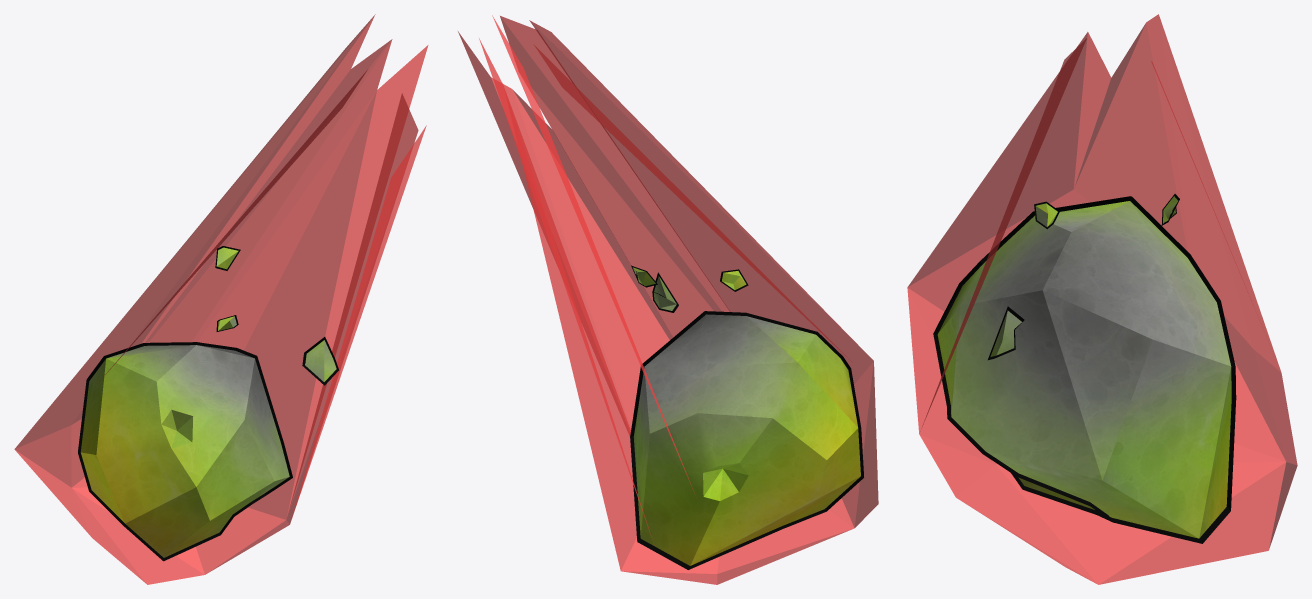
The model's file is meteorite.glb.
3 renders of one model, left to right at view 1: azimuth 30°, elevation 25°; view 2: azimuth 150°, elevation 25°; view 3: azimuth 270°, elevation 25°, orthographic. The views are drawn at different scales.
Parts seen in each view (by area): view 1: Plane.001_0, Cube.005_14, Cube_11, Cube.004_13, Cube.008_12; view 2: Plane.001_0, Cube.005_14, Cube_11, Cube.004_13; view 3: Cube.005_14, Plane.001_0, Cube_11, Cube.004_13, Cube.008_12.
Part boxes in pixels (box(x1,y1,x2,y2)): Plane.001_0: box(14, 14, 428, 584); Cube.005_14: box(80, 345, 289, 557); Cube_11: box(78, 342, 292, 561); Cube.004_13: box(216, 247, 336, 381); Cube.008_12: box(215, 246, 338, 385); Plane.001_0: box(458, 15, 878, 584); Cube.005_14: box(633, 314, 860, 565); Cube_11: box(630, 311, 863, 569); Cube.004_13: box(632, 267, 746, 310); Cube.005_14: box(937, 201, 1231, 538); Plane.001_0: box(907, 14, 1297, 584); Cube_11: box(933, 196, 1236, 543); Cube.004_13: box(990, 196, 1177, 356); Cube.008_12: box(988, 194, 1179, 360).
Bounding box in the file's own units: 11.68 × 14.19 × 7.14.
Materials: 3 (1 with a texture image).
